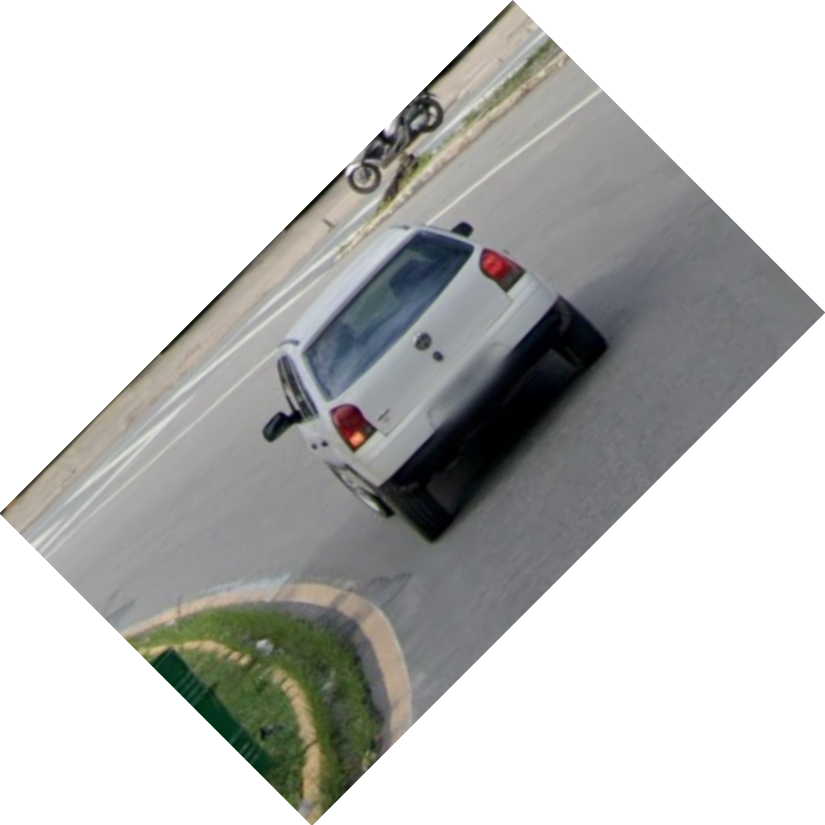car: (249, 217, 616, 549)
